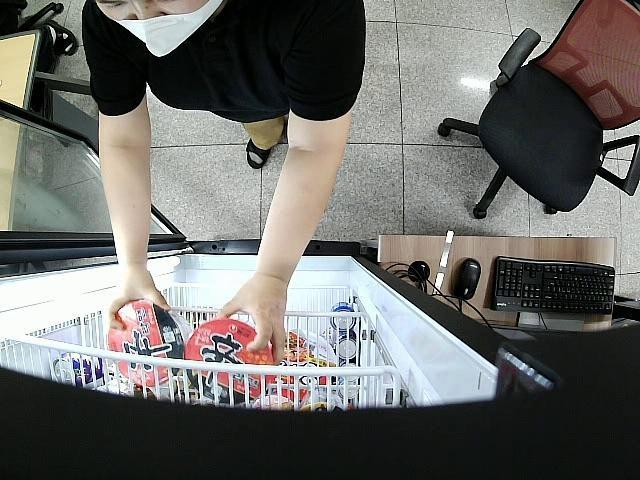01_ShinRamen_L: (185, 318, 274, 404), (108, 300, 191, 390)
